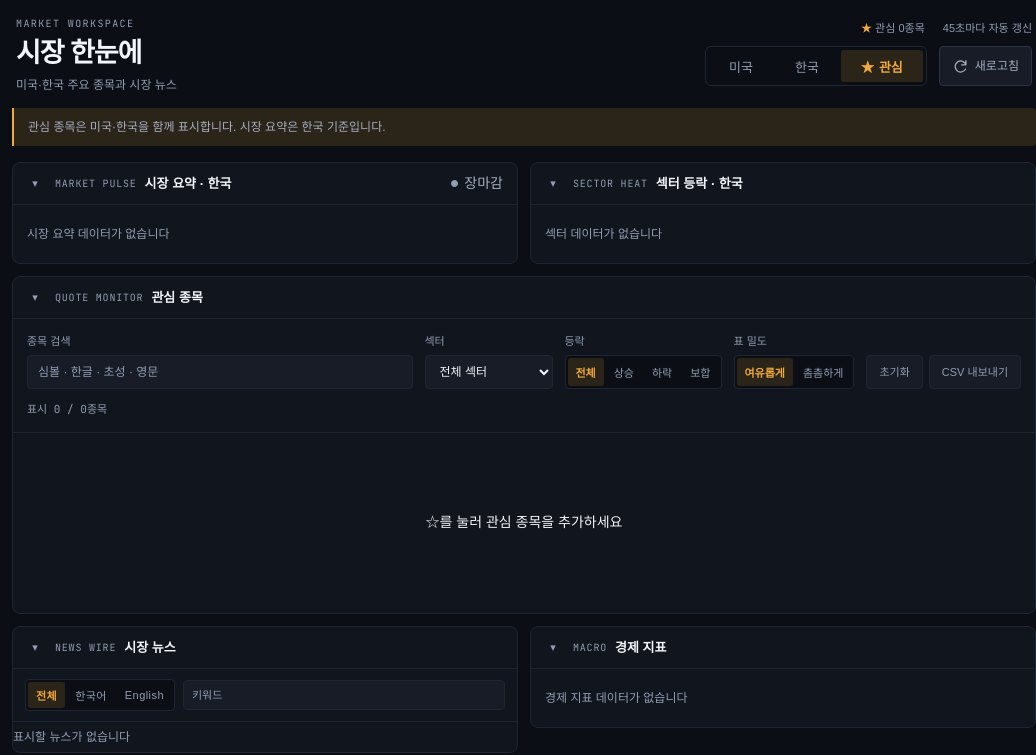
it: 관심 화면을 열어도 요약의 기준 시장을 URL에 유지한다 / watch keeps its underlying market
Expected: the heading "시장 요약 · 한국" is shown, 145,174 -> 232,193
Click the button "한국" at (807, 66), box 775,50 -> 839,82
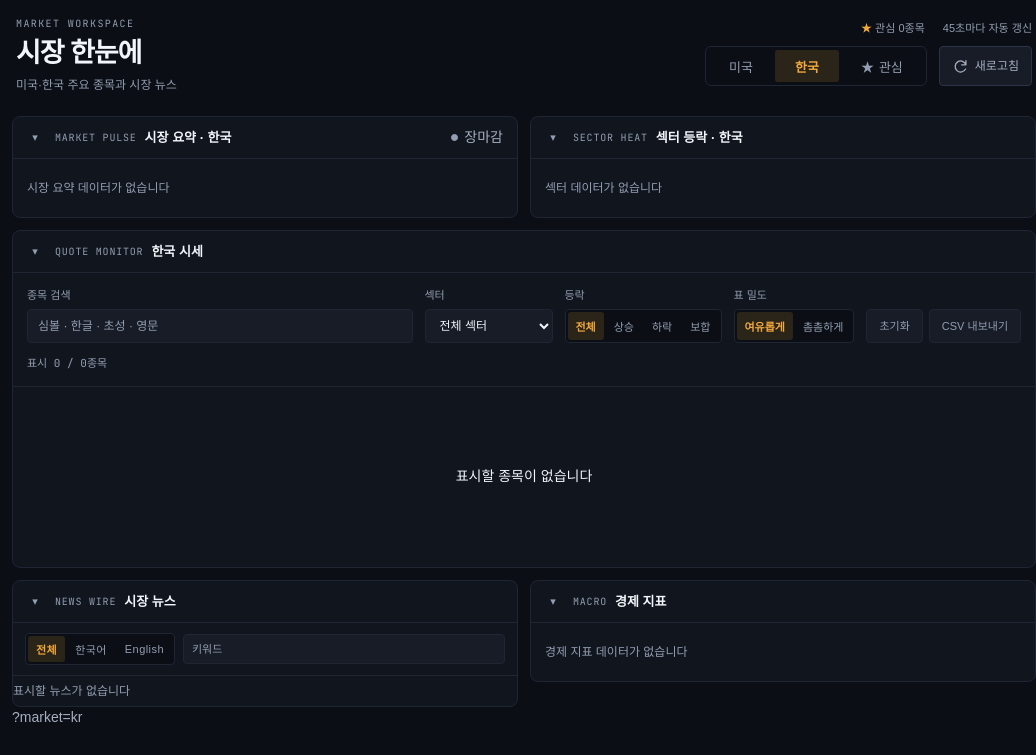
Now the text named "현재 주소" reads "?market=kr", box 12,709 -> 82,725
